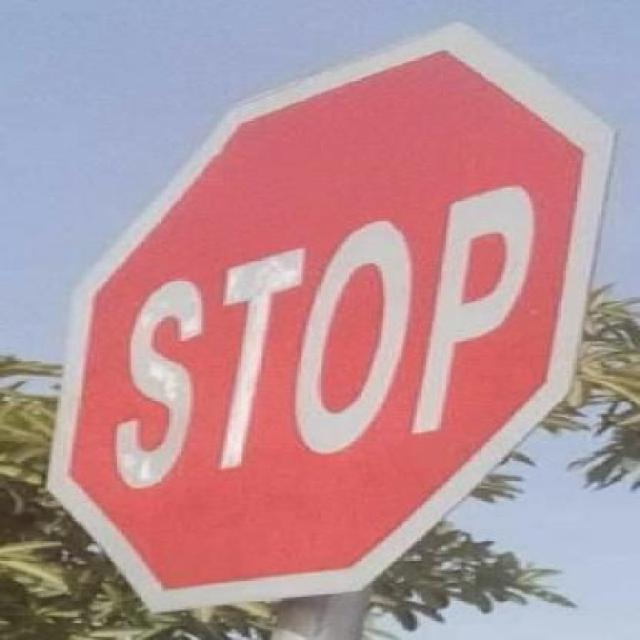stop: (52, 25, 605, 611)
